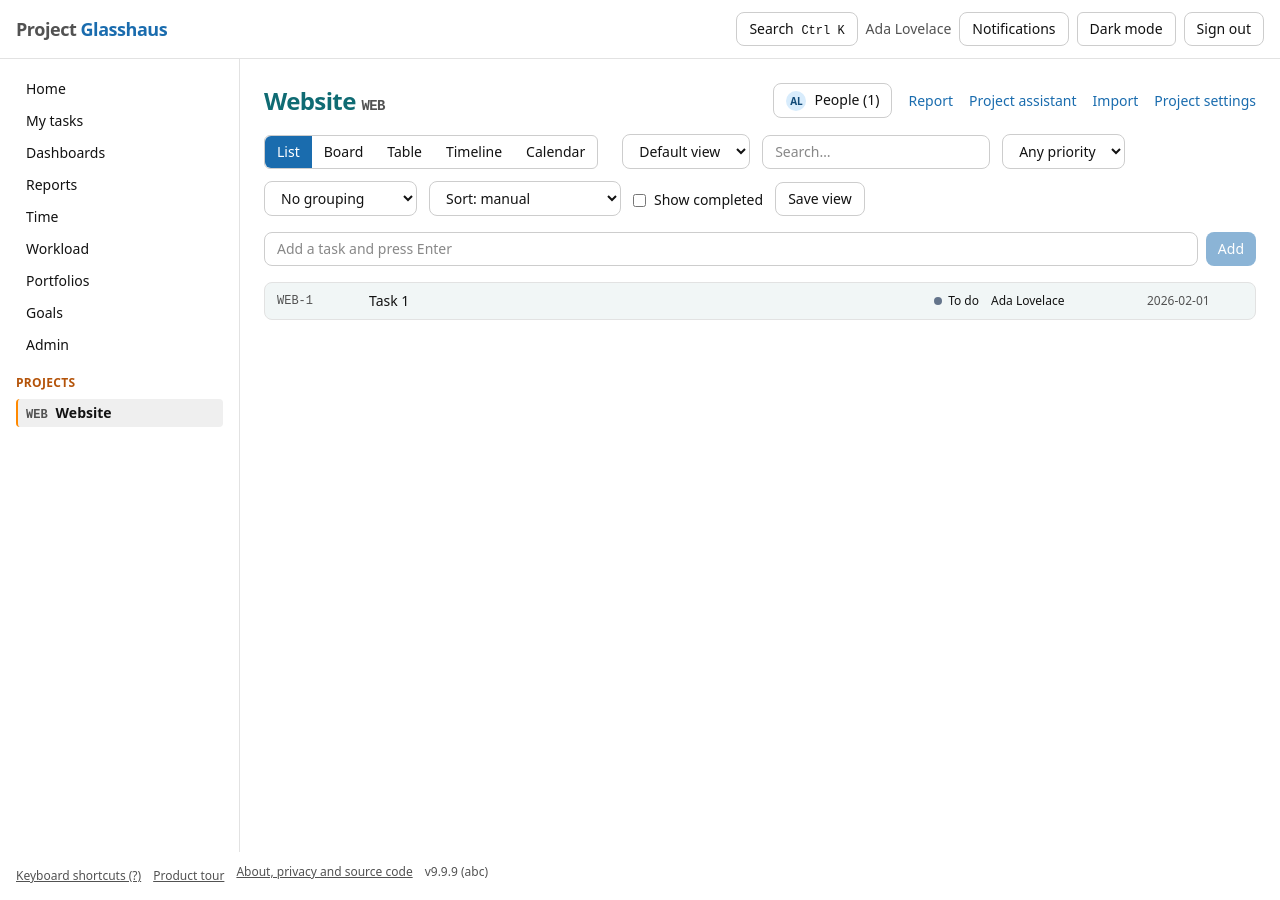
Scenario: project people › lists members and lets a project admin add a teammate
Click the button "AL People (1)" at (833, 101), box [774,83,892,118]
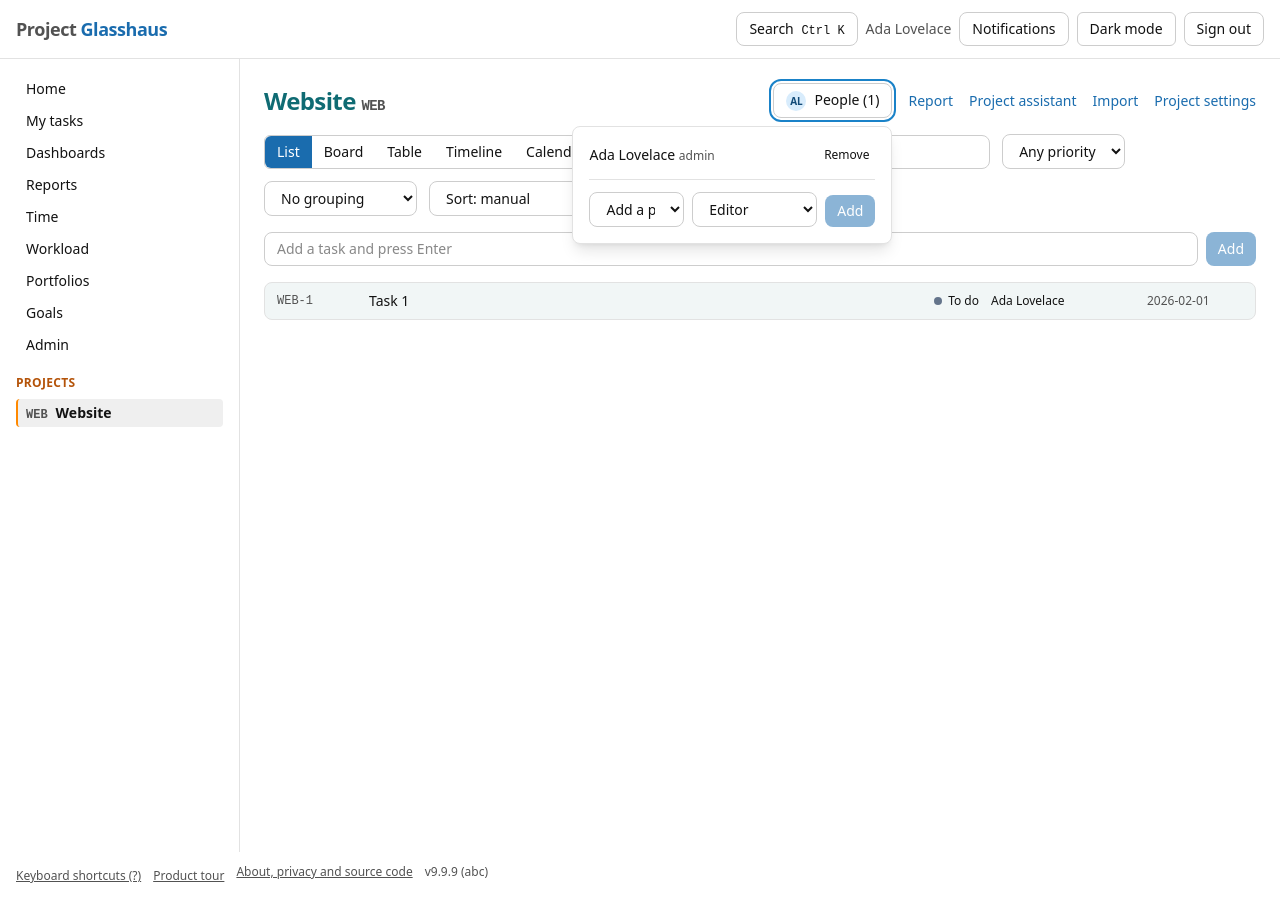
Expected: the text "Ada Lovelace" is shown, [590,145,675,164]
Select "Grace Hopper" in the dropdown named "Person to add" at (637, 210), box [590,192,684,227]
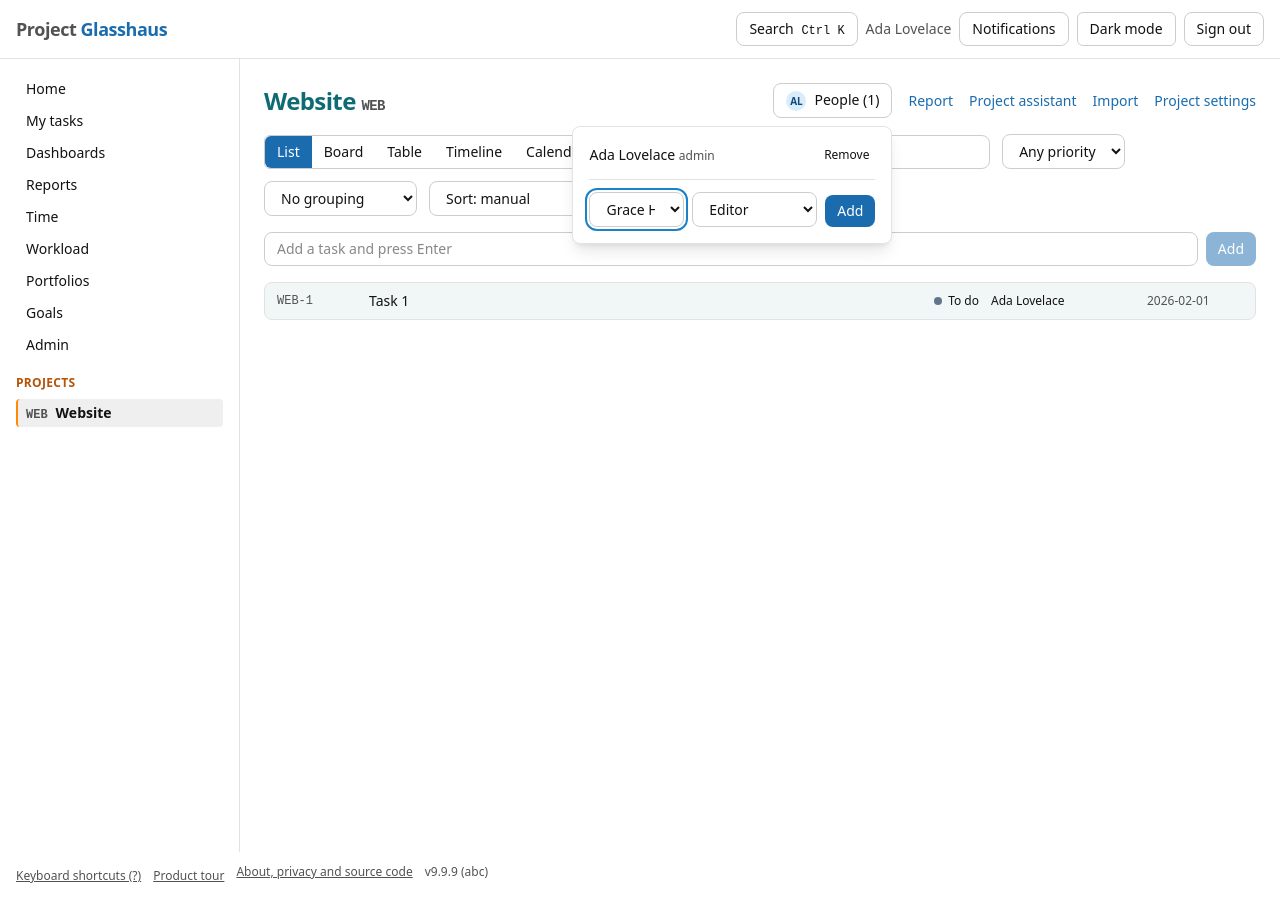
Select "Viewer" in the dropdown named "Role" at (755, 210), box [692,192,817,227]
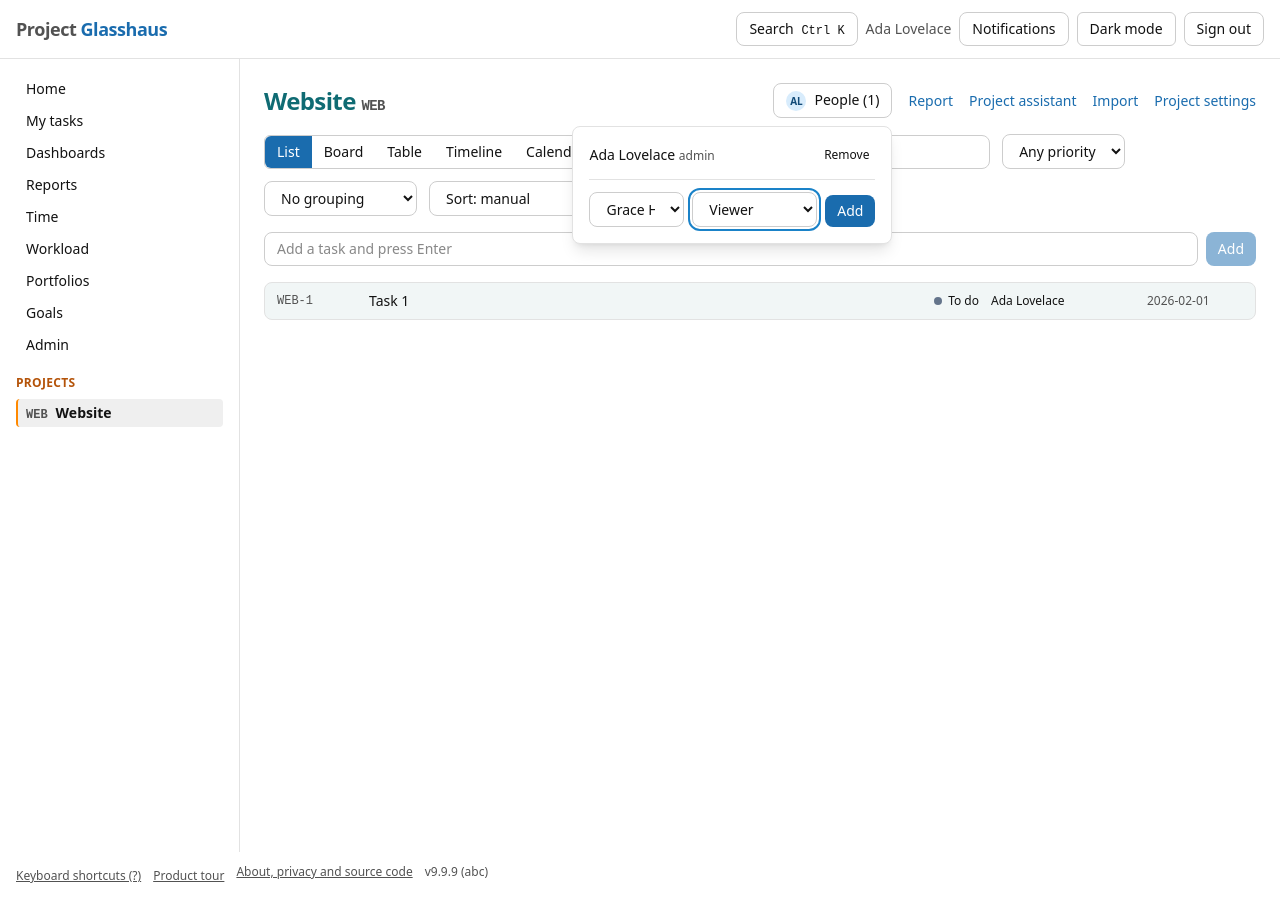
Click the button "Add" below "Project assistant" at (850, 211), box [825,195,876,227]
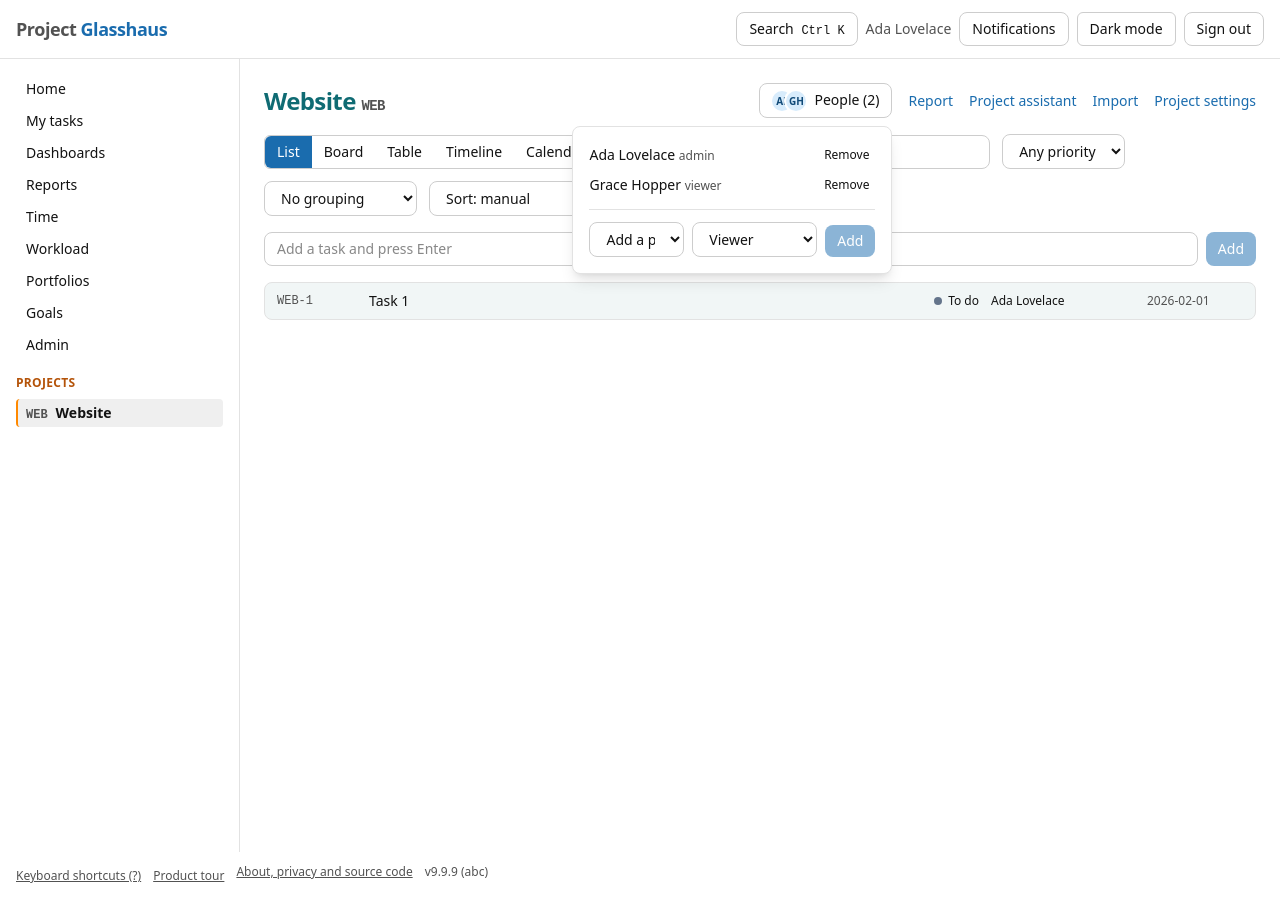
Expected: the text "Grace Hopper" is shown, [590,175,681,194]
